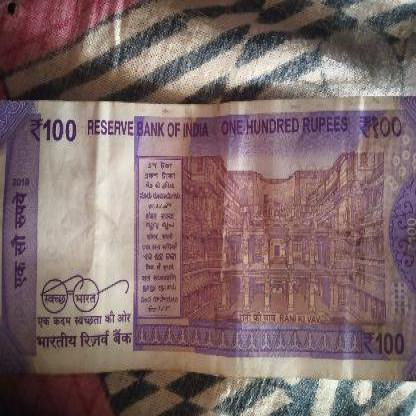New100Back: (0, 100, 415, 373)
